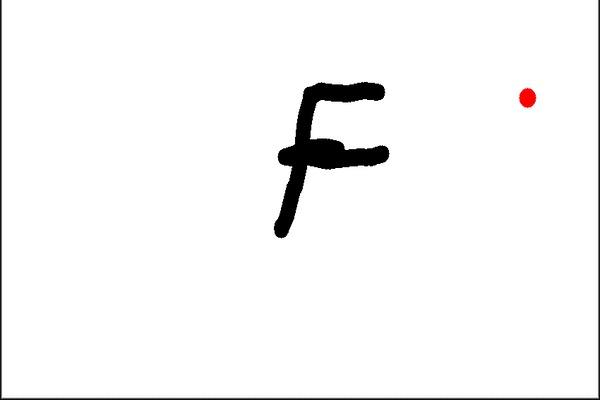F: (269, 76, 389, 240)
